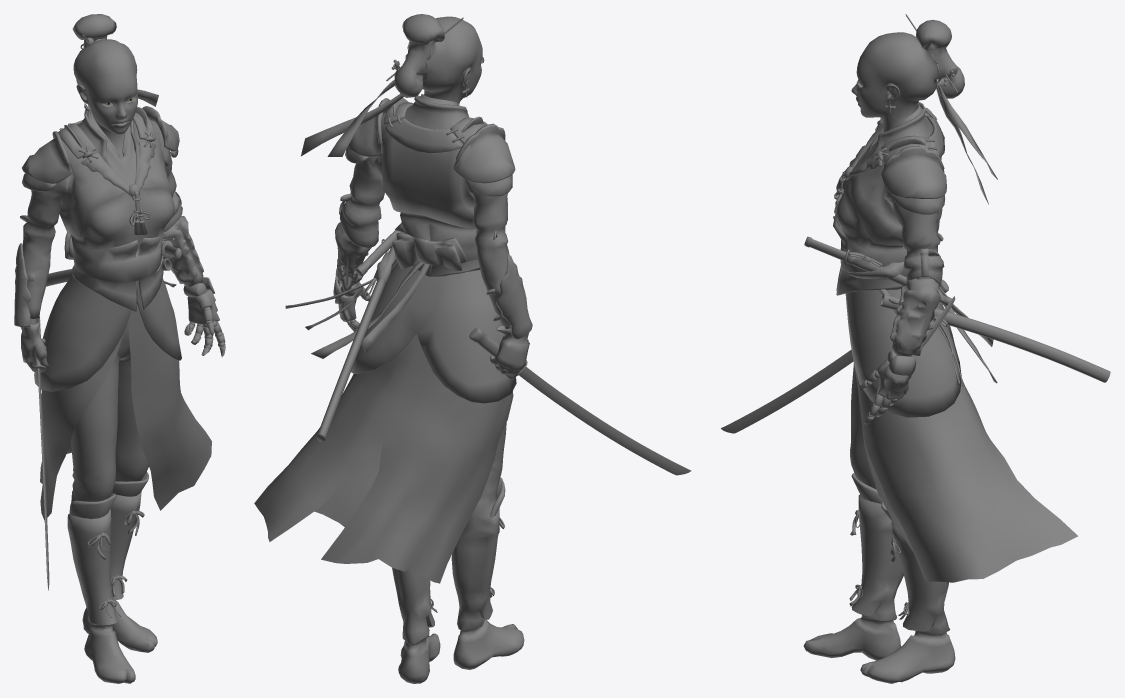
Rendered from Nyra_Woman_Warrior.FBX.
3 renders of one model, left to right at view 1: azimuth 30°, elevation 25°; view 2: azimuth 150°, elevation 25°; view 3: azimuth 270°, elevation 25°, orthographic. The views are drawn at different scales.
Visible parts, largest first — view 1: polySurface527, polySurface505, polySurface492, polySurface426, polySurface525, polySurface399, polySurface522, polySurface526, polySurface519, polySurface407, polySurface523; view 2: polySurface492, polySurface527, polySurface505, polySurface426, polySurface522, polySurface523, polySurface407, polySurface399, polySurface525, polySurface519, polySurface526, polySurface462 (+1 smaller); view 3: polySurface492, polySurface527, polySurface505, polySurface426, polySurface525, polySurface522, polySurface523, polySurface526, polySurface399, polySurface407, polySurface408, polySurface461.
Boxes of the visible parts, x1,y1,x2,y2 form: polySurface527: (14, 105, 182, 391); polySurface505: (67, 322, 148, 683); polySurface492: (40, 299, 211, 520); polySurface426: (72, 14, 137, 159); polySurface525: (163, 216, 225, 356); polySurface399: (58, 107, 156, 235); polySurface522: (22, 106, 179, 191); polySurface526: (82, 600, 157, 652); polySurface519: (20, 318, 48, 369); polySurface407: (32, 317, 49, 590); polySurface523: (46, 256, 176, 287); polySurface492: (254, 335, 513, 583); polySurface527: (311, 94, 532, 403); polySurface505: (392, 422, 524, 669); polySurface426: (386, 14, 482, 104); polySurface522: (345, 98, 515, 196); polySurface523: (285, 239, 396, 441); polySurface407: (469, 327, 691, 475); polySurface399: (384, 98, 487, 153); polySurface525: (333, 222, 371, 331); polySurface519: (490, 325, 529, 378); polySurface526: (398, 633, 440, 683); polySurface462: (301, 77, 422, 156); polySurface492: (853, 363, 1077, 582); polySurface527: (833, 102, 997, 417); polySurface505: (803, 364, 949, 660); polySurface426: (851, 14, 964, 131); polySurface525: (859, 277, 955, 424); polySurface522: (880, 107, 946, 214); polySurface523: (880, 294, 1110, 386); polySurface526: (860, 634, 955, 683); polySurface399: (834, 111, 944, 218); polySurface407: (721, 279, 948, 433); polySurface408: (846, 252, 951, 306); polySurface461: (936, 79, 997, 179).
Bounding box in the file's own units: 13.71 × 28.79 × 15.76.
5 materials, 2 textured.
